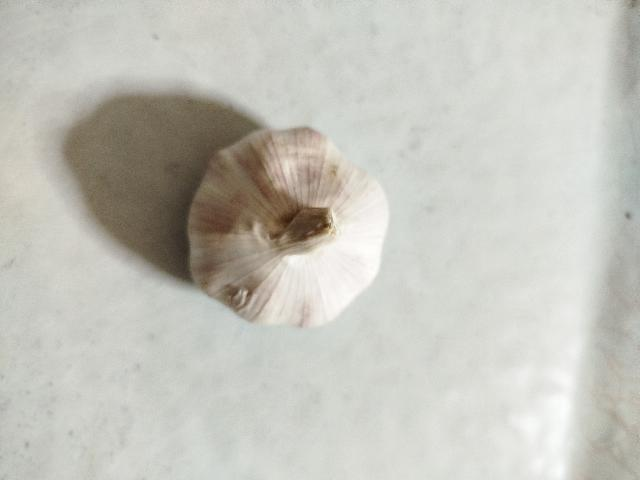garlic: (186, 126, 390, 328)
